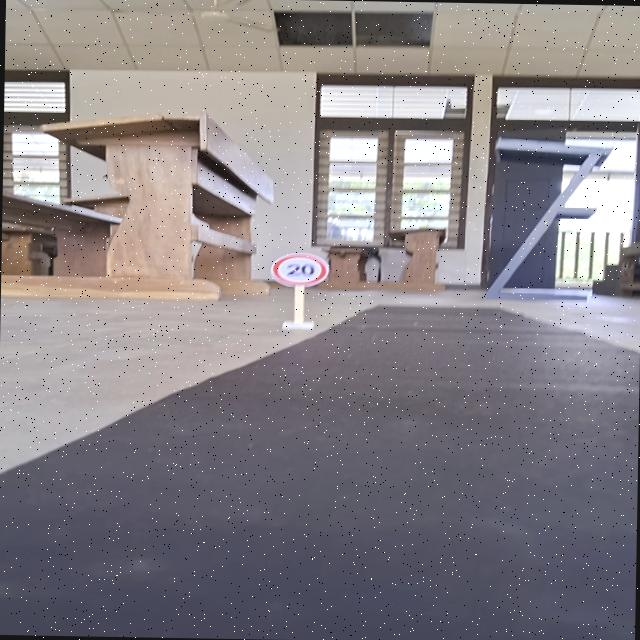Speed20: (267, 249, 334, 290)
